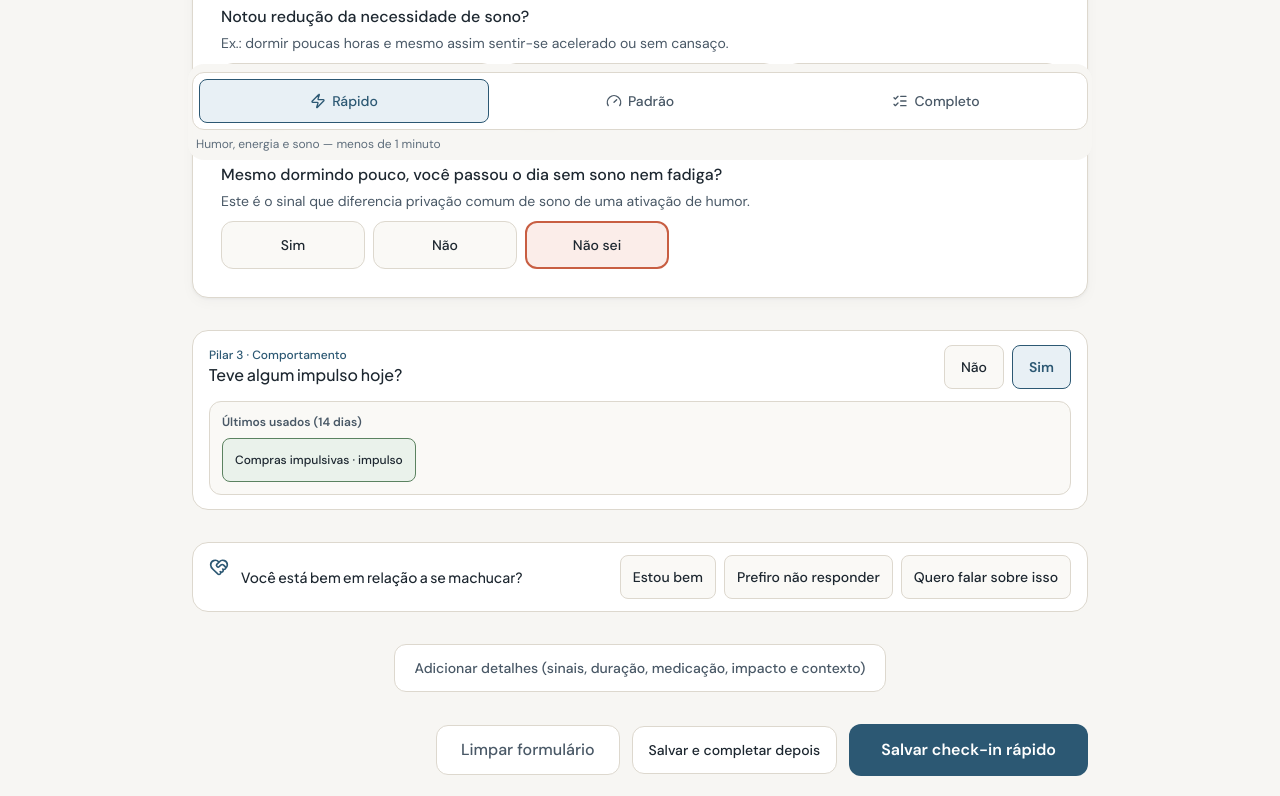
it: DailyLogForm › mostra os últimos usados (incluindo impulso) e reaplica o modo da última vez
(page scrolled)
Click the button with aria-label "Compras impulsivas (impulso) — usar de novo" at {"x": 319, "y": 460}, box [222,438,416,482]
(page scrolled)
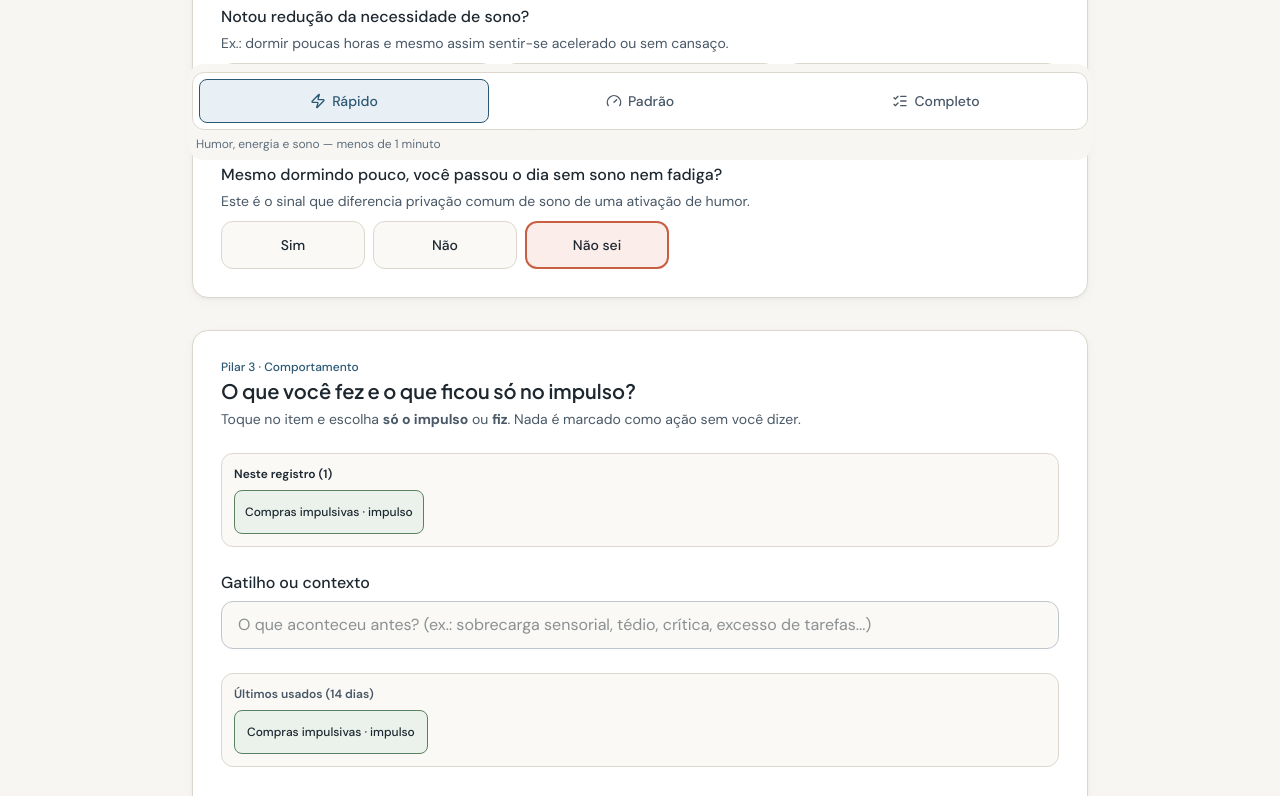
Now the button with aria-label "Remover Compras impulsivas (impulso)" is shown, box [234,490,424,534]
